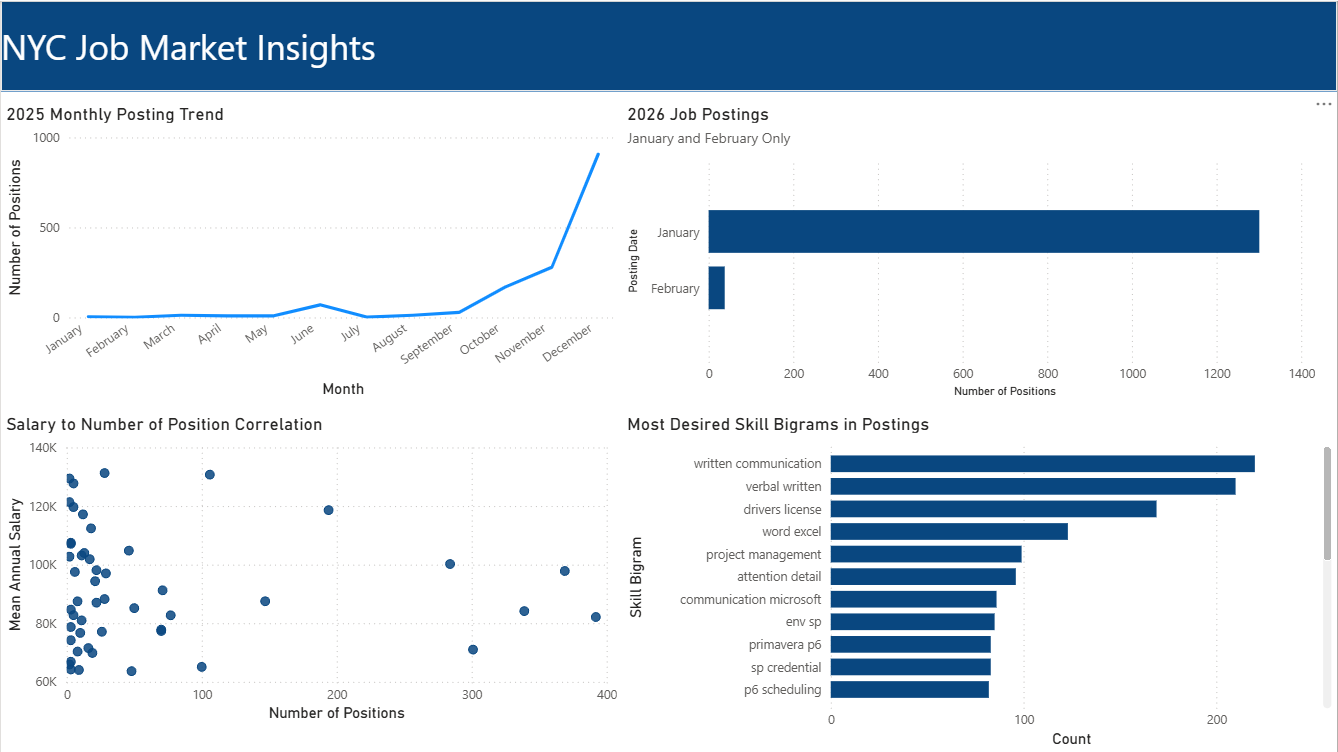

Layout of this report page (visuals, bound fields, positions):
{"tool":"powerbi","page":{"name":"Job Market Insights","canvas":[1280,720],"ordinal":2},"visuals":[{"type":"barChart","title":"2026 Job Postings","fields":{"Y":["Sum(monthly_postings_2026.# Of Positions)"],"Category":["monthly_postings_2026.Posting Date"]},"box":[595,97.7,668.7,286.5],"z":0},{"type":"lineChart","title":"2025 Monthly Posting Trend","fields":{"Y":["Sum(monthly_postings_2025 (2).# Of Positions)"],"Category":["monthly_postings_2025.Month"]},"box":[0,97.7,595,286.5],"z":1000},{"type":"scatterChart","title":"Salary to Number of Position Correlation ","fields":{"Category":["salary_correlation.Agency"],"X":["Sum(salary_correlation.# Of Positions)"],"Y":["Sum(salary_correlation.Mean Annual Salary)"]},"box":[0,394.9,595.3,300.5],"z":2000},{"type":"clusteredBarChart","title":"Most Desired Skill Bigrams in Postings","fields":{"Category":["top_skills.Skill Bigram"],"Y":["Sum(top_skills.Column1)"]},"box":[595.3,394.9,684.7,324.9],"z":3000},{"type":"shape","box":[0,0,1280,86.6],"z":4000}]}

Visuals, with their boxes in screenshot pixels (x1, y1, x2, y2), scaled from the page's 1280x720 canvas onto the 1338x752 screenshot:
"2026 Job Postings" barChart: 622, 102, 1321, 401
"2025 Monthly Posting Trend" lineChart: 0, 102, 622, 401
"Salary to Number of Position Correlation " scatterChart: 0, 412, 622, 726
"Most Desired Skill Bigrams in Postings" clusteredBarChart: 622, 412, 1337, 751
shape: 0, 0, 1337, 90
